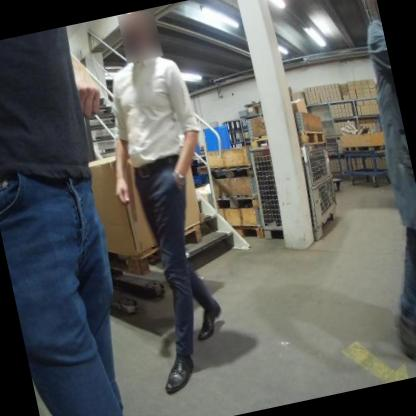pallet: (102, 216, 211, 283), (247, 118, 328, 159), (205, 156, 255, 186), (212, 187, 261, 217), (231, 217, 266, 244)
stillage: (245, 134, 347, 249)
